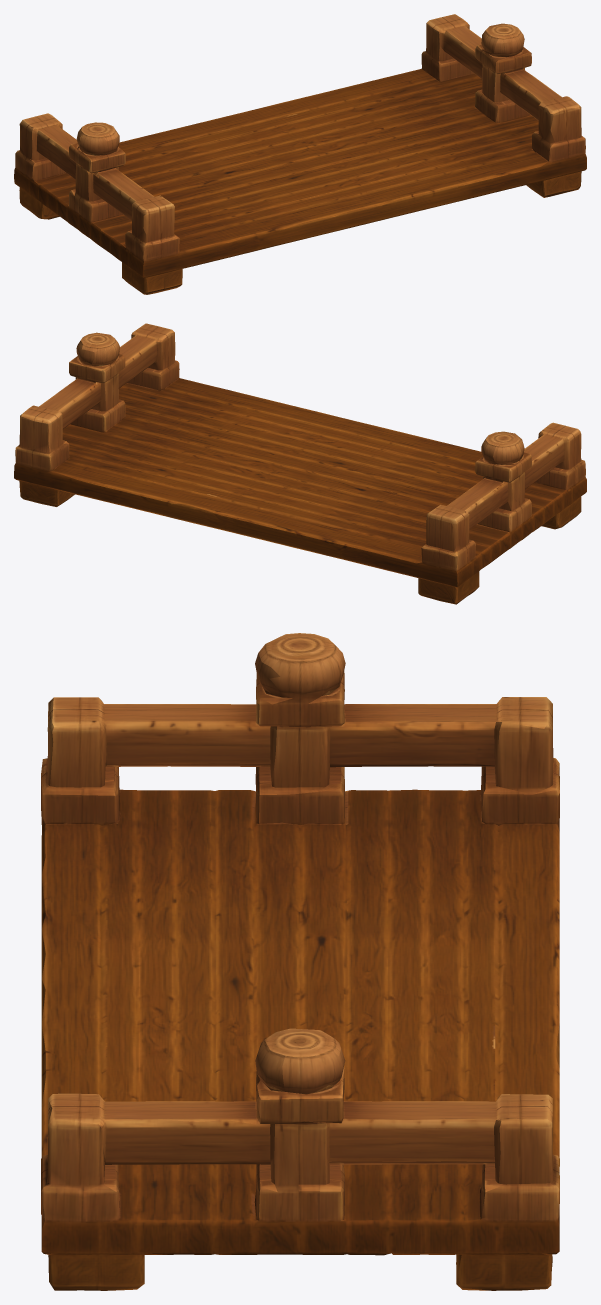
The model's file is bridge_span.glb.
3 views of the same model, one above another, from view 1: azimuth 30°, elevation 25°; view 2: azimuth 150°, elevation 25°; view 3: azimuth 270°, elevation 25° (orthographic). The views are drawn at different scales.
Parts seen in each view (by area): view 1: low; view 2: low; view 3: low.
Boxes of the visible parts, left/top/right/bottom form: low: left=14, top=14, right=586, bottom=294; low: left=14, top=323, right=586, bottom=604; low: left=41, top=633, right=559, bottom=1290.
Size of the model in its own units: 1 by 0.2555 by 0.5068.
Materials: 1 (1 with a texture image).
